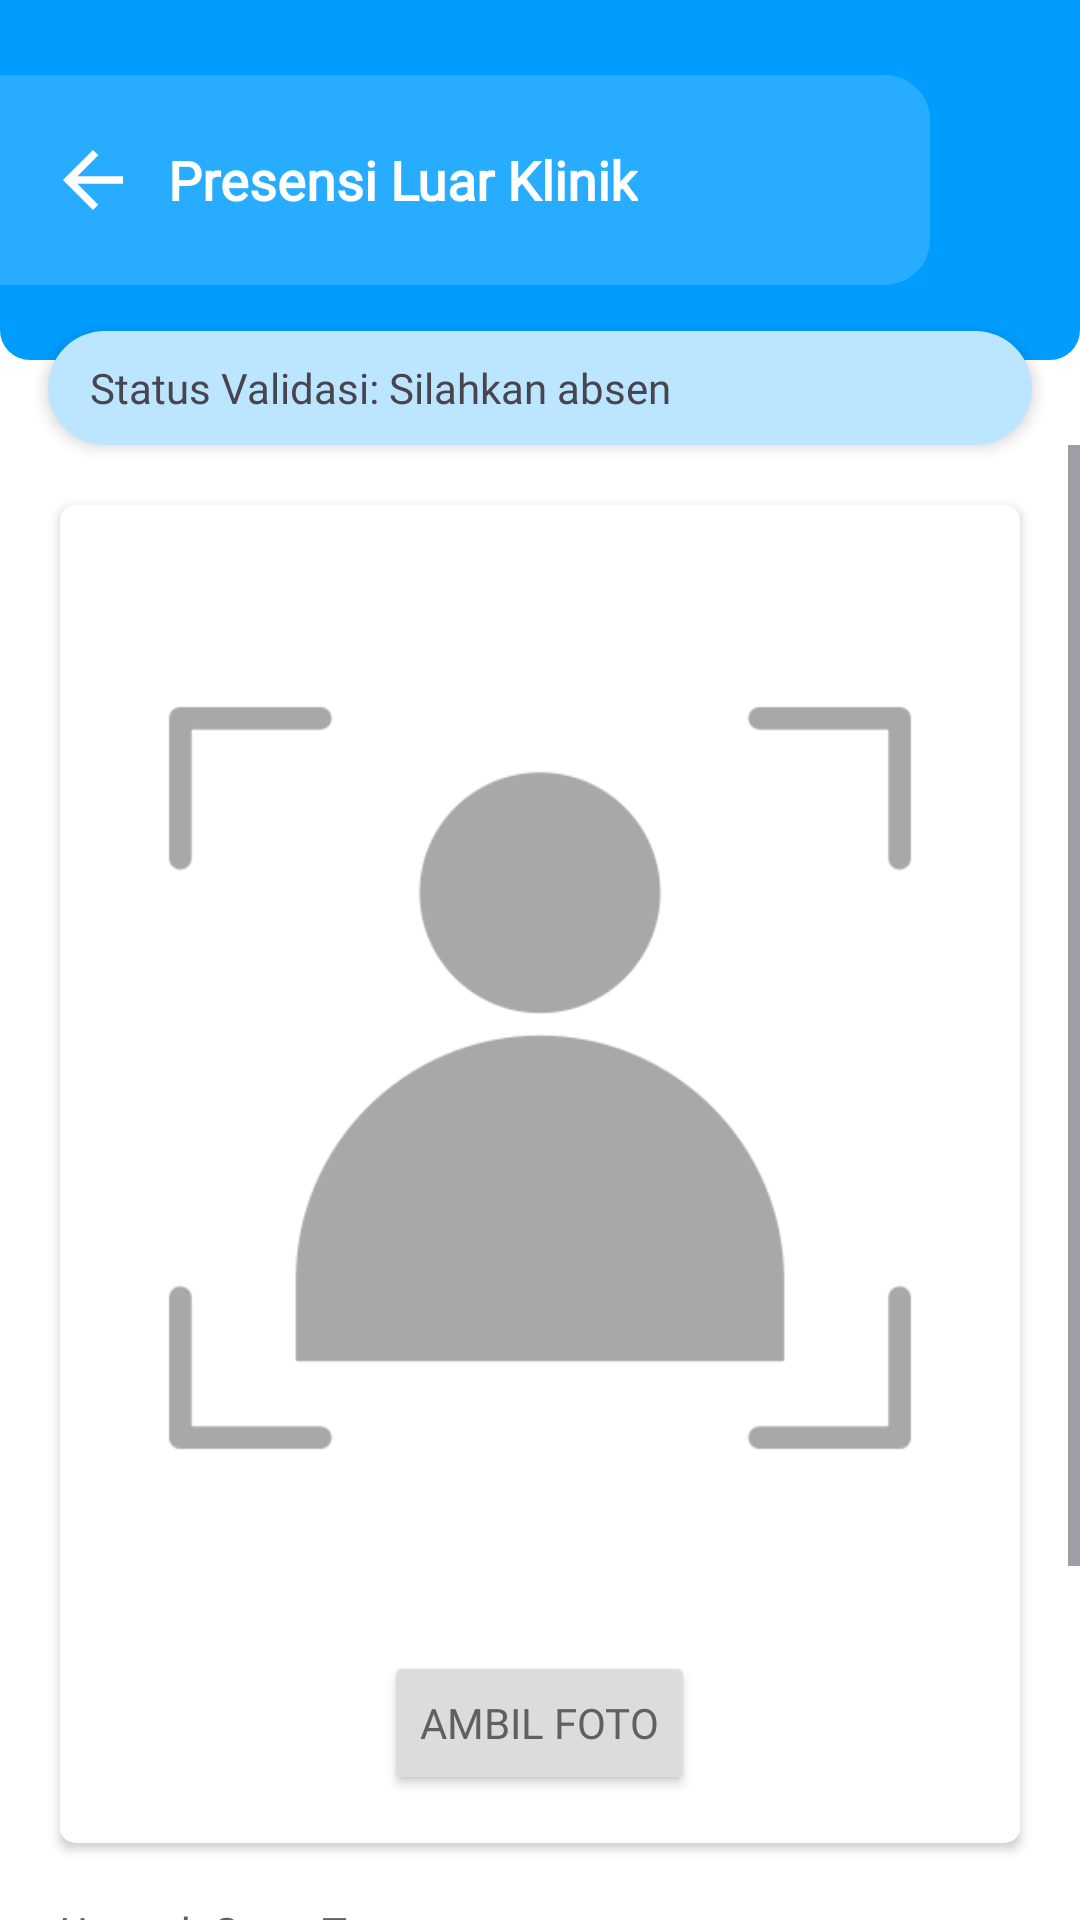

Where to tap for icons on this 1080 × 1920 app screen, as point (x, y):
Back: point (93, 180)
